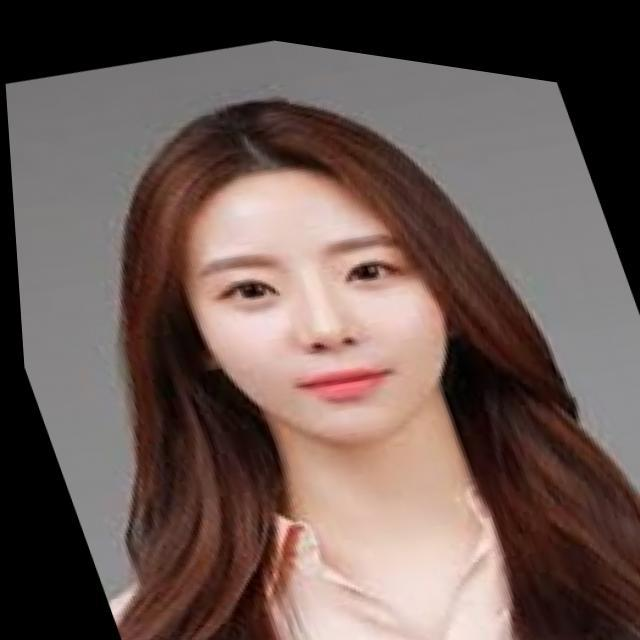Nonhelmet: (122, 82, 490, 460)
